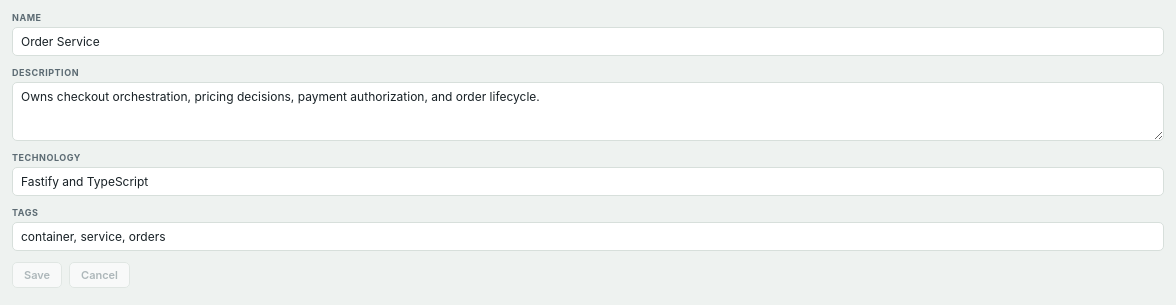
Scenario: ElementInspectorForm › restores canonical values when the edit is cancelled
This screenshot has width=1176, height=305.
Replace the text in the field labelled "Name" with "Discarded": (588, 42) [12, 27, 1164, 56]
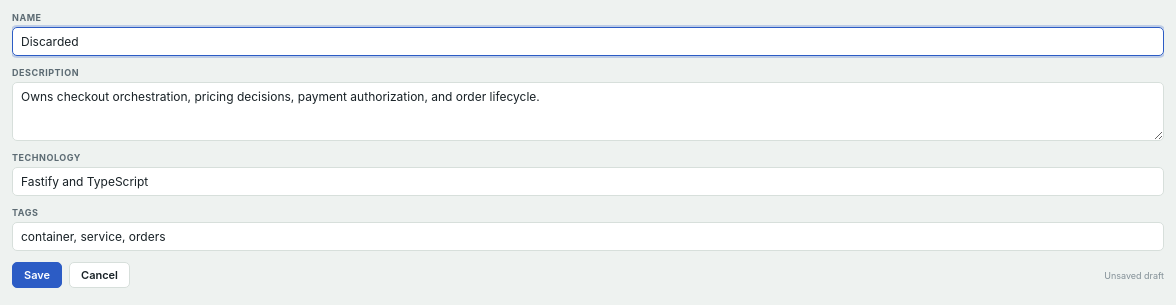
Click the button "Cancel": (100, 275) [69, 262, 130, 288]
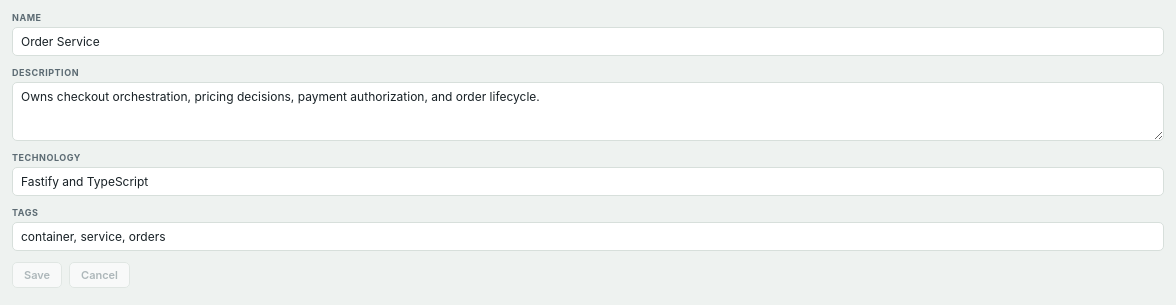
Check: the field labelled "Name" holds "Order Service", box [12, 27, 1164, 56]
Check: the button "Save" is disabled, box [12, 262, 62, 288]
